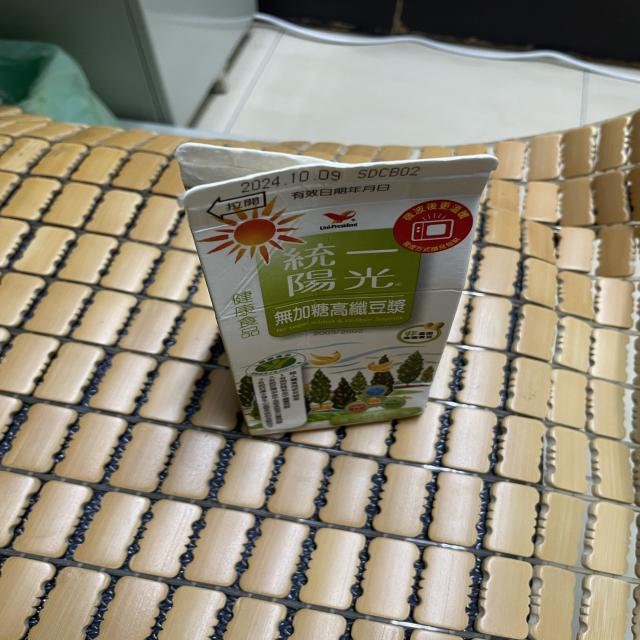TongYi_UnsweetenedHighFiberSoyMilk: (172, 131, 503, 442)
